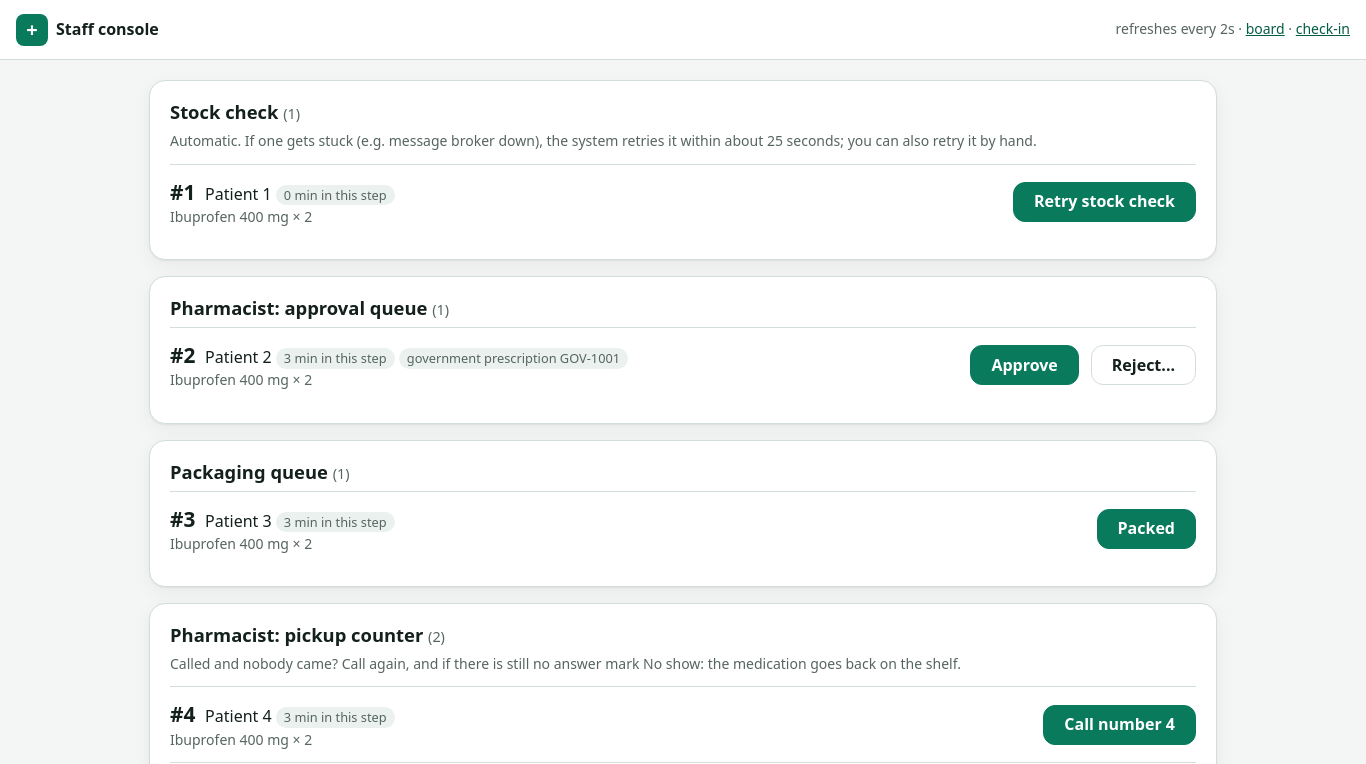
it: the steps › shows why a step was refused, and goes on
Expected: the text "Patient 2" is shown, top-left (201, 346), bottom-right (276, 368)
Click the button "Approve" at (1025, 365), box top-left (970, 345), bottom-right (1079, 385)
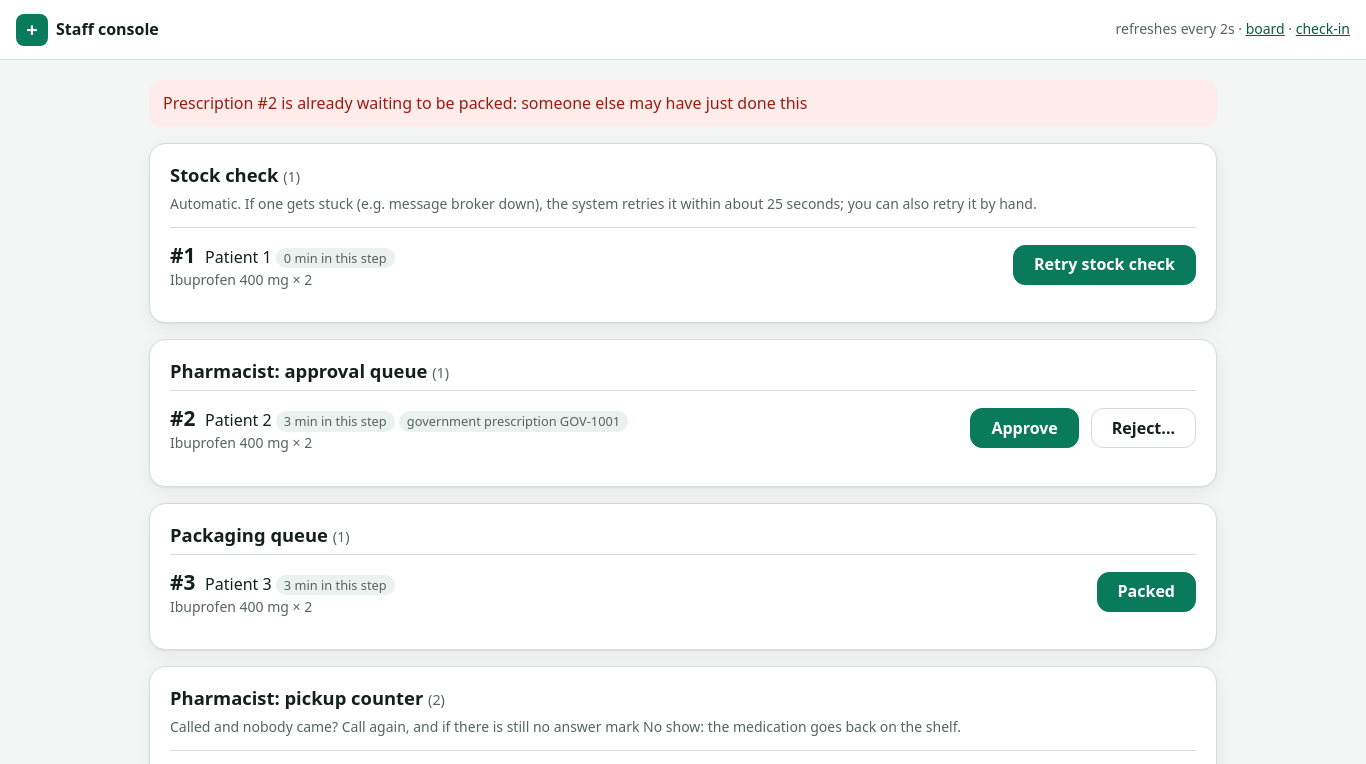
Expected: the message shows "Prescription #2 is already waiting to be packed", top-left (163, 92), bottom-right (807, 114)
Click the button "Approve" at (1025, 428), box top-left (970, 408), bottom-right (1079, 448)
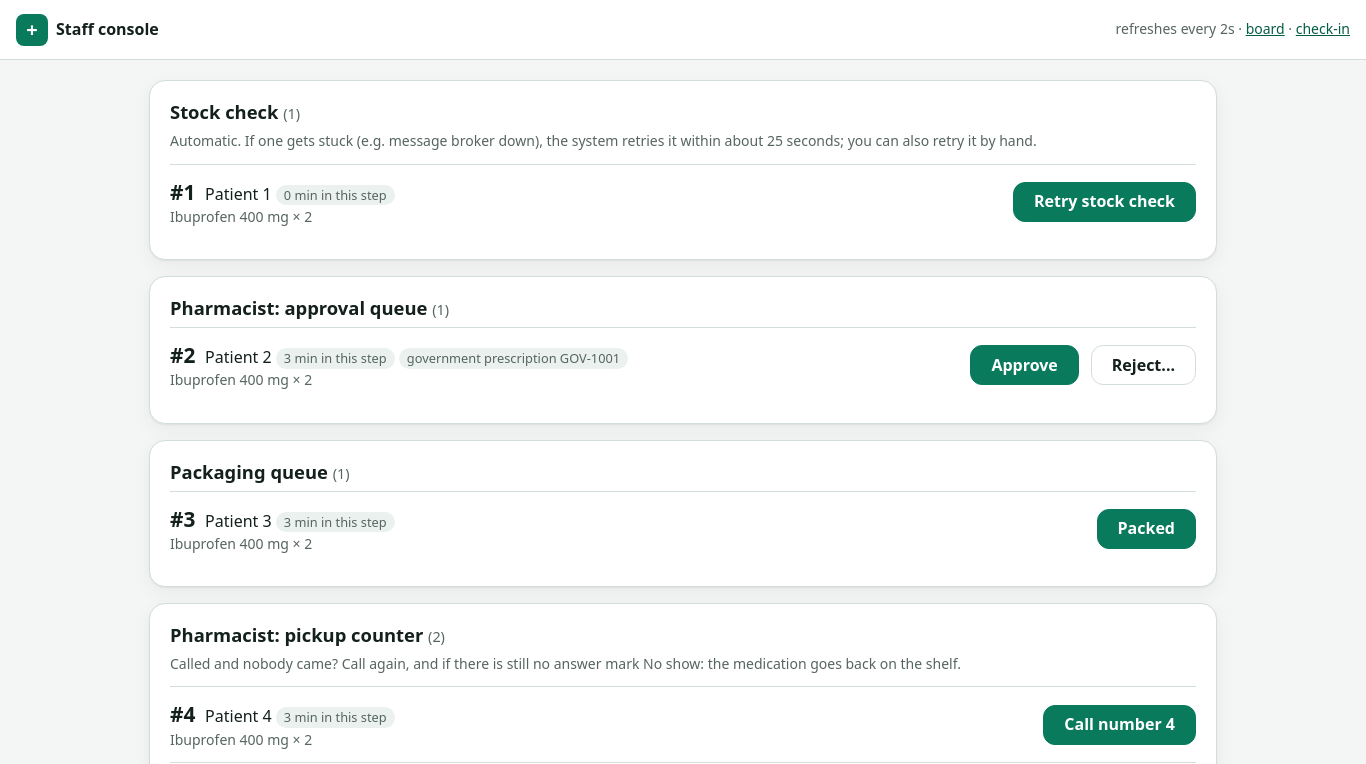
Expected: the message is gone
